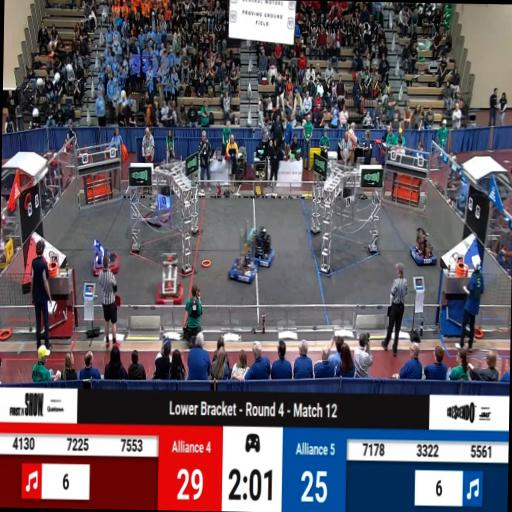robot: (157, 264, 185, 304), (248, 229, 274, 269), (410, 229, 437, 266), (93, 239, 120, 273), (230, 257, 258, 285)
